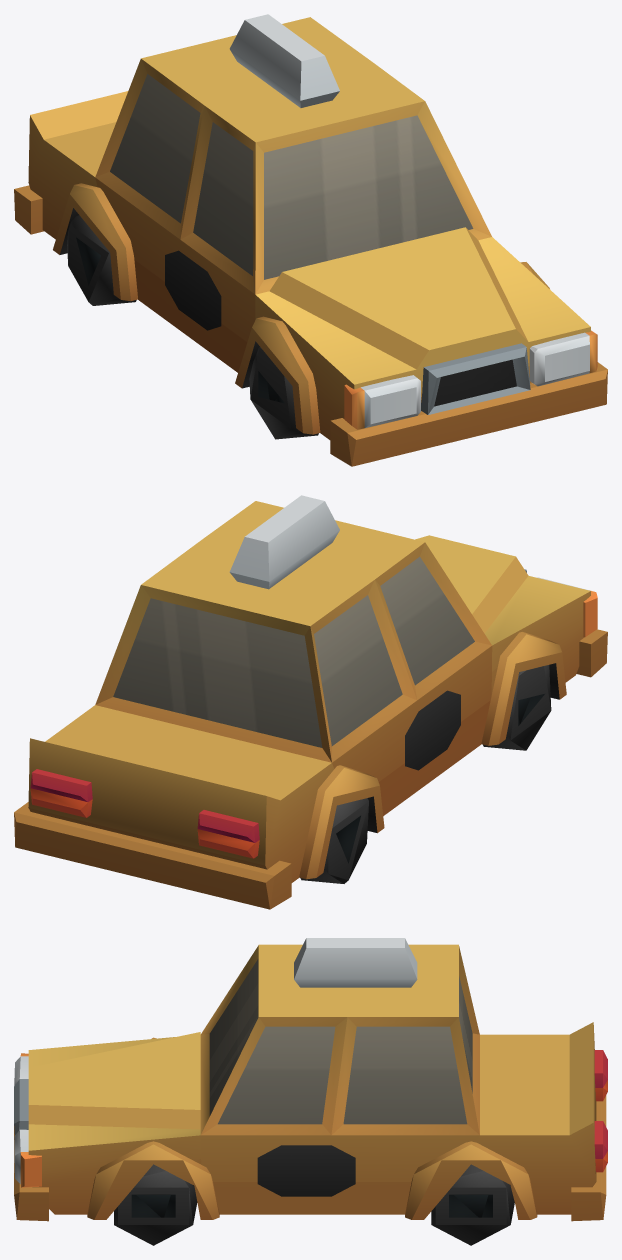
Rendered from cc0-car-taxi-lod1.glb.
The picture shows the model from 3 angles, top to bottom: view 1: azimuth 30°, elevation 25°; view 2: azimuth 150°, elevation 25°; view 3: azimuth 270°, elevation 25°; orthographic projection. The views are drawn at different scales.
Visible parts, largest first — view 1: part_0; view 2: part_0; view 3: part_0.
Part boxes in pixels (x1=…): part_0: x1=14, y1=14, x2=607, y2=466; part_0: x1=14, y1=495, x2=607, y2=909; part_0: x1=14, y1=938, x2=607, y2=1245.
Size of the model in its own units: 0.419 by 0.4345 by 0.9381.
1 material, 1 textured.
